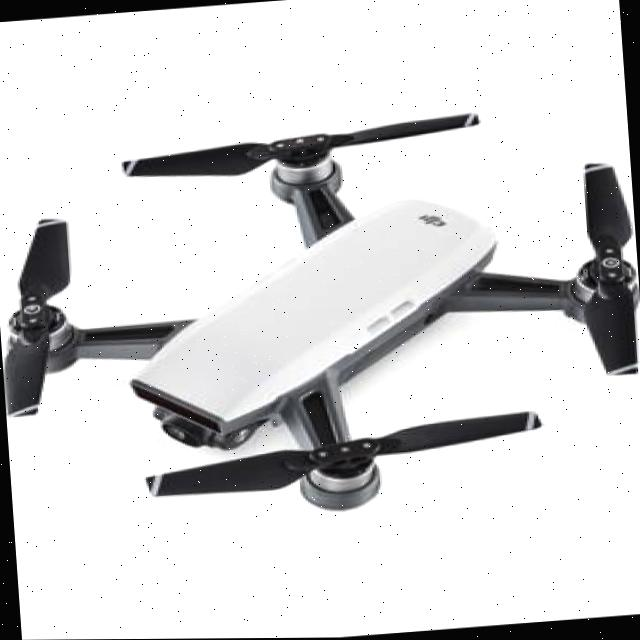drone: (0, 68, 640, 548)
